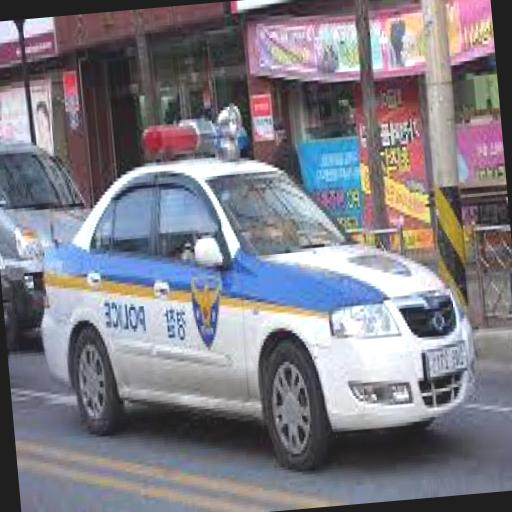Ambulance: (26, 103, 476, 460)
